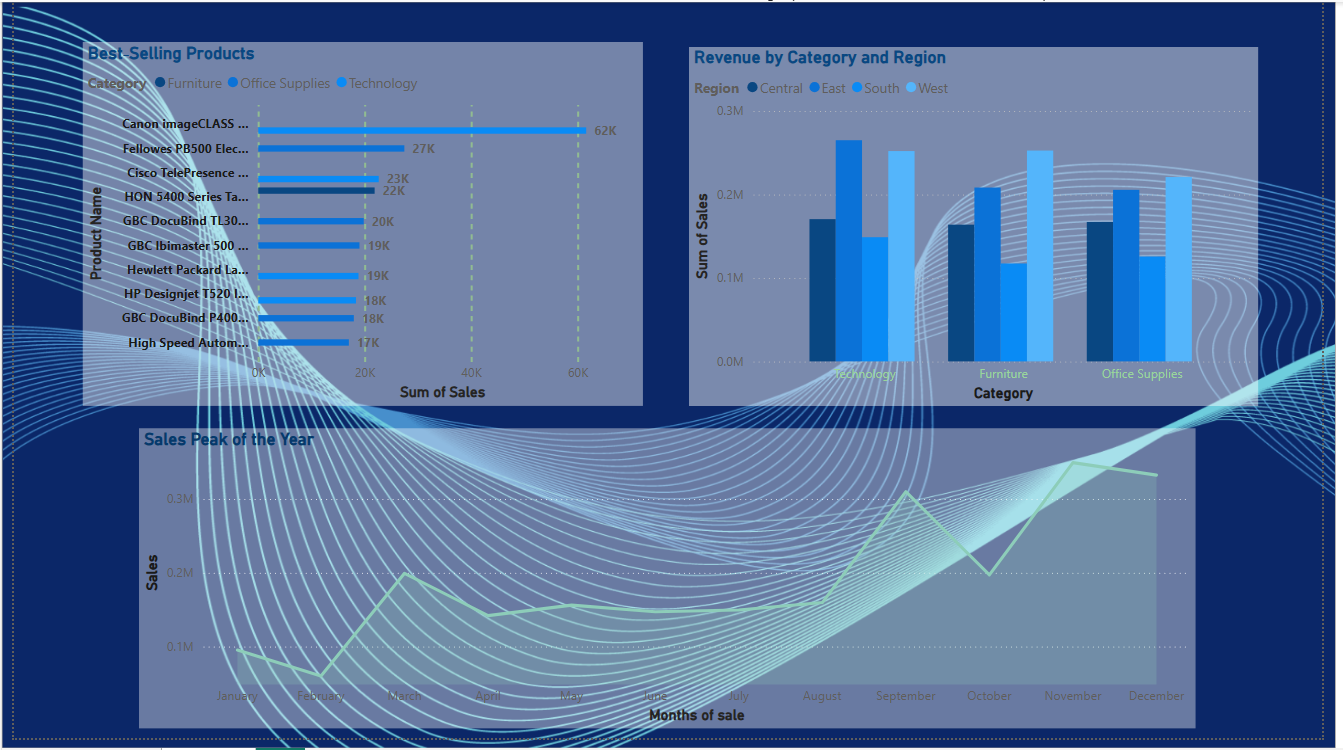

The dashboard page shown, as its layout file describes it:
{"tool":"powerbi","page":{"name":"Page 1","canvas":[1280,720],"ordinal":0},"visuals":[{"type":"clusteredBarChart","title":"Best‑Selling Products","fields":{"Category":["Orders.Product Name"],"Y":["Sum(Orders.Sales)"],"Series":["Orders.Category"]},"box":[67.3,39.1,547.8,355.8],"z":0},{"type":"lineChart","title":"Sales Peak of the Year","fields":{"Category":["Orders.Order Date.Variation.Date Hierarchy.Month"],"Y":["Sum(Orders.Sales)"]},"box":[122.1,417.2,1033.3,293.7],"z":1000},{"type":"clusteredColumnChart","title":"Revenue by Category and Region","fields":{"Series":["Orders.Region"],"Y":["Sum(Orders.Sales)"],"Category":["Orders.Category"]},"box":[660,43.9,557.1,351.3],"z":2000}]}

Visuals, with their boxes in screenshot pixels (x1, y1, x2, y2), scaled from the page's 1280x720 canvas onto the 1343x750 screenshot:
"Best‑Selling Products" clusteredBarChart: [left=71, top=41, right=645, bottom=411]
"Sales Peak of the Year" lineChart: [left=128, top=435, right=1212, bottom=741]
"Revenue by Category and Region" clusteredColumnChart: [left=692, top=46, right=1277, bottom=412]
